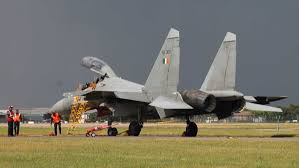maybay_muctieu: (35, 39, 299, 133)
